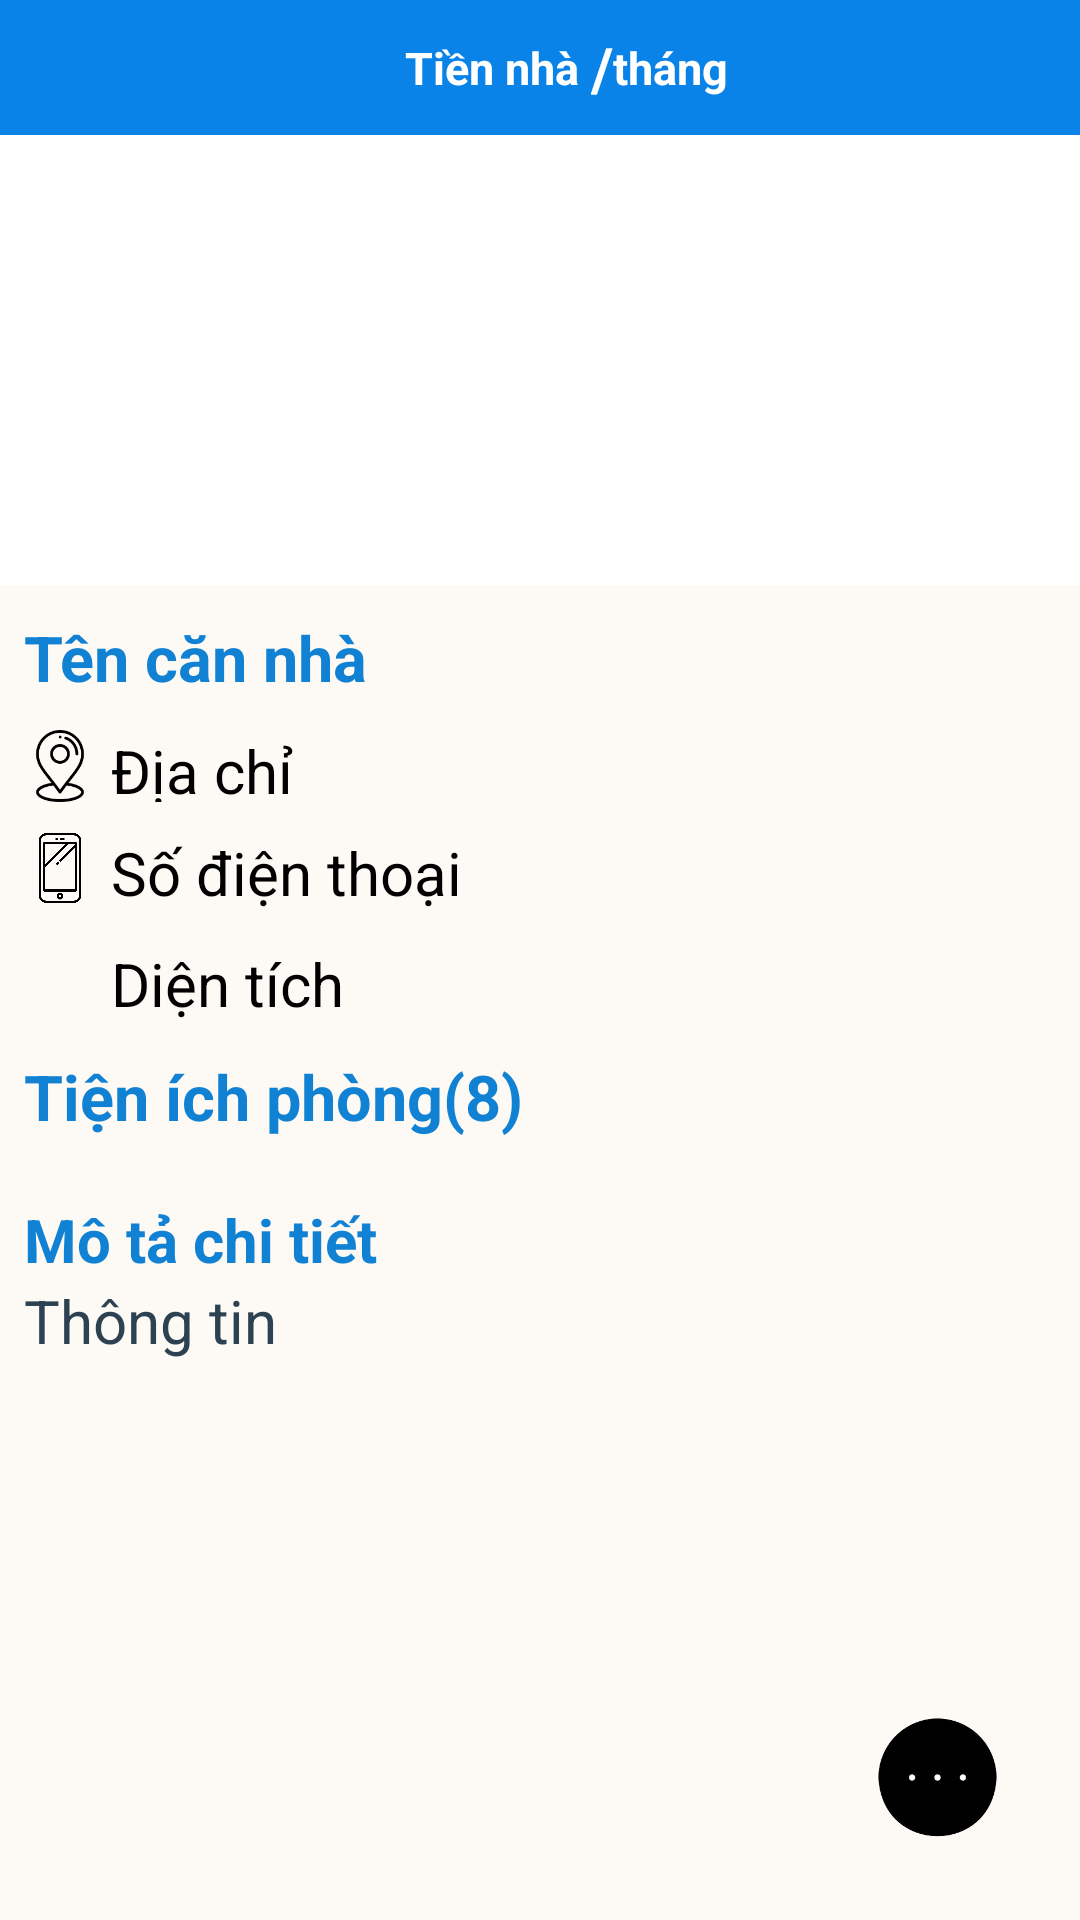

Locate icon controls on the screen. Image size 1080w x 1920h, boxes as (x1, y1, x2, y2).
map: (36, 730, 84, 802)
threedots: (878, 1718, 997, 1837)
